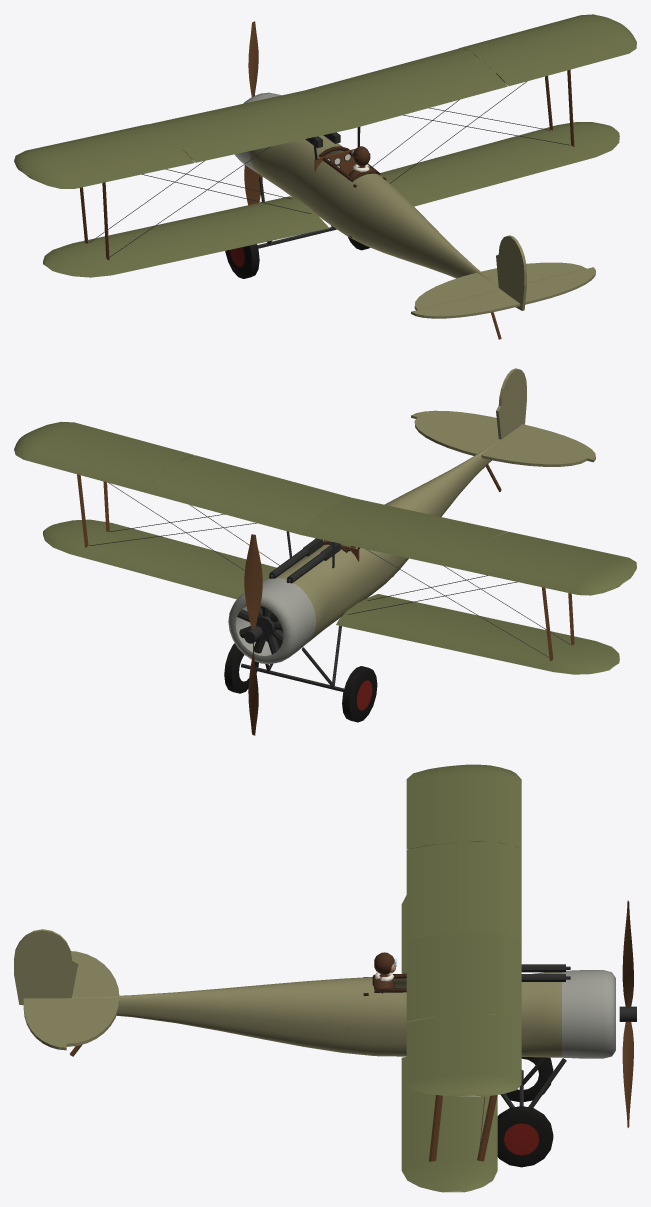
File: nieuport_28.glb
3 renders of one model, top to bottom at view 1: azimuth 30°, elevation 25°; view 2: azimuth 150°, elevation 25°; view 3: azimuth 270°, elevation 25°, orthographic. The views are drawn at different scales.
Visible parts, largest first — view 1: Wing_Upper_R, Wing_Upper_L, Fuselage, Wing_Lower_L, Wing_Lower_R, Elevator, Aileron_L, Aileron_R, Rudder, Stabilizer_L, Wires, Struts (+5 smaller); view 2: Wing_Upper_R, Wing_Upper_L, Wing_Lower_L, Wing_Lower_R, Fuselage, Cowling, Elevator, Wheels, PropBlades, Stabilizer_L, Stabilizer_R, Rudder (+7 smaller); view 3: Fuselage, Wing_Upper_L, Wing_Upper_R, Wing_Lower_R, Cowling, Rudder, Wheels, Aileron_R, Aileron_L, Stabilizer_R, PropBlades, Elevator (+5 smaller).
Boxes of the visible parts, x1,y1,x2,y2 form: Wing_Upper_R: [304, 14, 628, 128]; Wing_Upper_L: [14, 90, 351, 176]; Fuselage: [249, 135, 498, 286]; Wing_Lower_L: [43, 196, 329, 277]; Wing_Lower_R: [380, 122, 619, 206]; Elevator: [411, 267, 595, 318]; Aileron_L: [27, 148, 194, 188]; Aileron_R: [495, 29, 636, 86]; Rudder: [496, 235, 526, 310]; Stabilizer_L: [414, 272, 500, 310]; Wires: [89, 81, 570, 256]; Struts: [79, 69, 574, 260]; Wing_Upper_R: [14, 426, 350, 534]; Wing_Upper_L: [301, 497, 628, 595]; Wing_Lower_L: [336, 594, 619, 674]; Wing_Lower_R: [43, 519, 276, 599]; Fuselage: [266, 439, 500, 642]; Cowling: [228, 577, 316, 664]; Elevator: [411, 410, 595, 462]; Wheels: [224, 643, 377, 722]; PropBlades: [244, 534, 262, 735]; Stabilizer_L: [481, 438, 586, 466]; Stabilizer_R: [414, 417, 498, 455]; Rudder: [496, 368, 526, 439]; Fuselage: [72, 972, 561, 1057]; Wing_Upper_L: [406, 764, 521, 940]; Wing_Upper_R: [406, 932, 521, 1096]; Wing_Lower_R: [401, 1057, 497, 1192]; Cowling: [562, 970, 615, 1058]; Rudder: [14, 929, 78, 1005]; Wheels: [497, 1057, 553, 1167]; Aileron_R: [406, 1017, 462, 1096]; Aileron_L: [406, 766, 446, 849]; Stabilizer_R: [66, 997, 119, 1046]; PropBlades: [619, 900, 636, 1127]; Elevator: [23, 998, 66, 1050].
Bounding box in the file's own units: 8.16 × 2.66 × 6.49.
